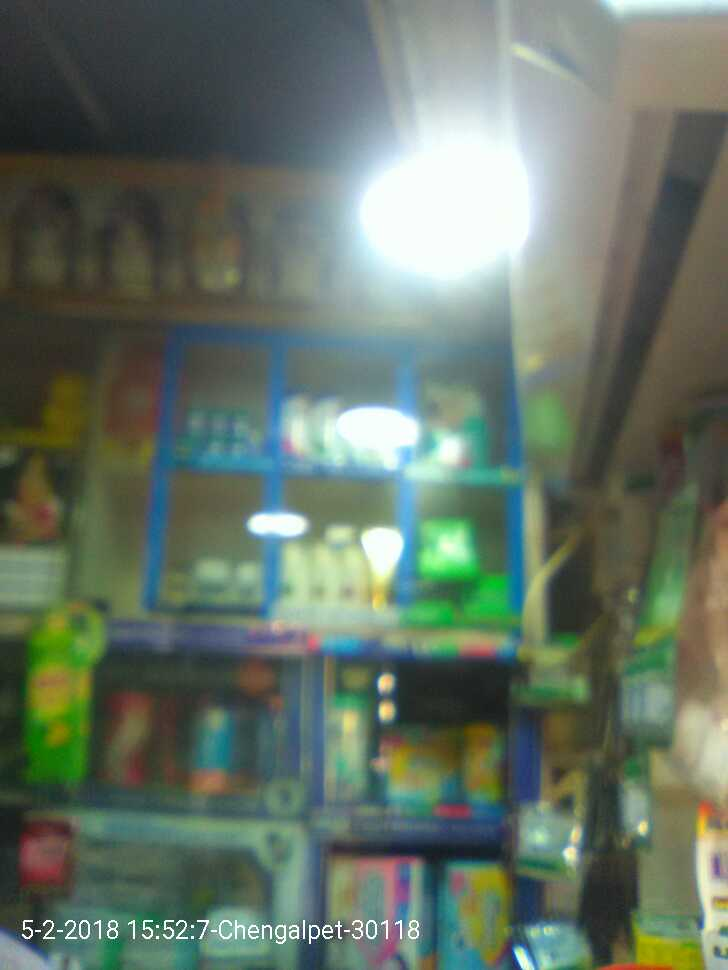vicks: (173, 401, 270, 457)
